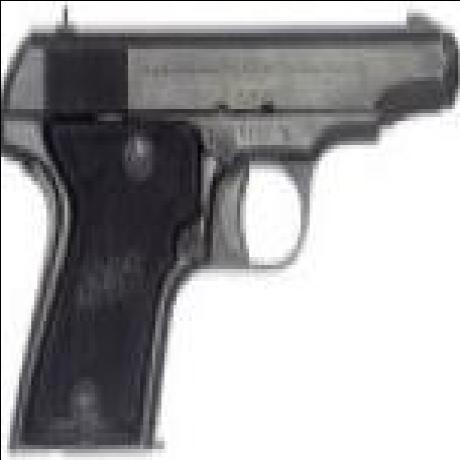weapon: (4, 2, 458, 460)
